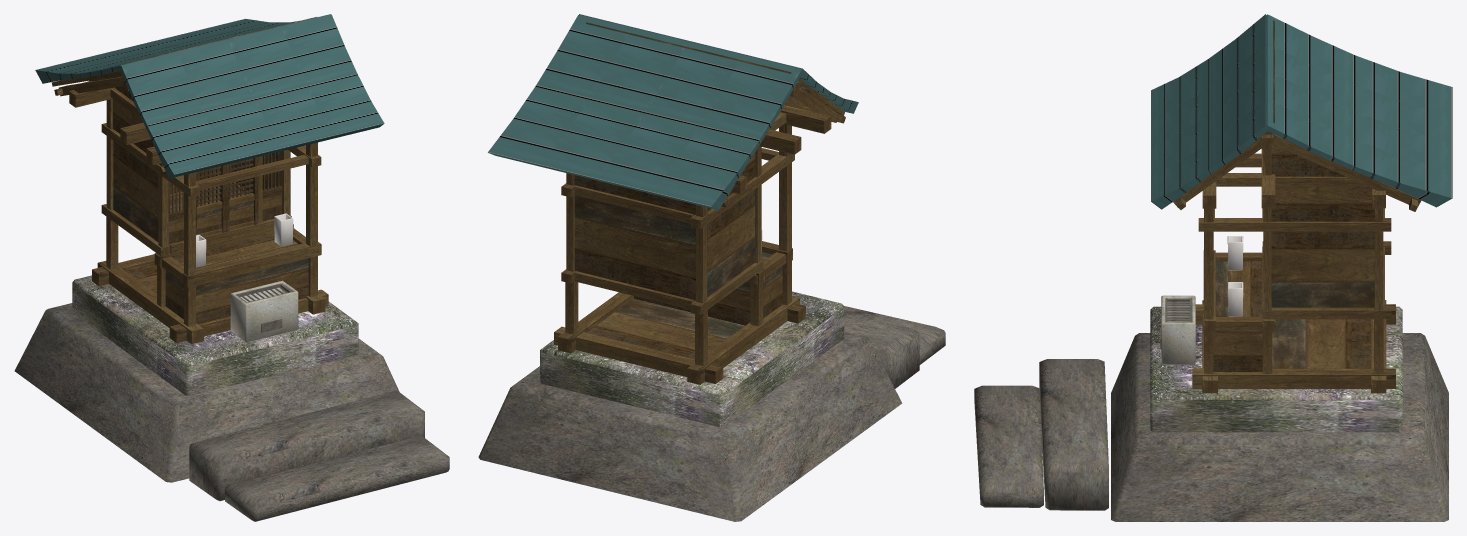
File: jinjya_yashiro.fbx
The picture shows the model from 3 angles, left to right: view 1: azimuth 30°, elevation 25°; view 2: azimuth 150°, elevation 25°; view 3: azimuth 270°, elevation 25°; orthographic projection. The views are drawn at different scales.
Visible parts, largest first — view 1: yashiro; view 2: yashiro; view 3: yashiro.
Part boxes in pixels (bbox=[...]): yashiro: bbox=[14, 14, 449, 521]; yashiro: bbox=[478, 14, 945, 521]; yashiro: bbox=[974, 14, 1452, 521].
Bounding box in the file's own units: 200 × 278 × 309.
